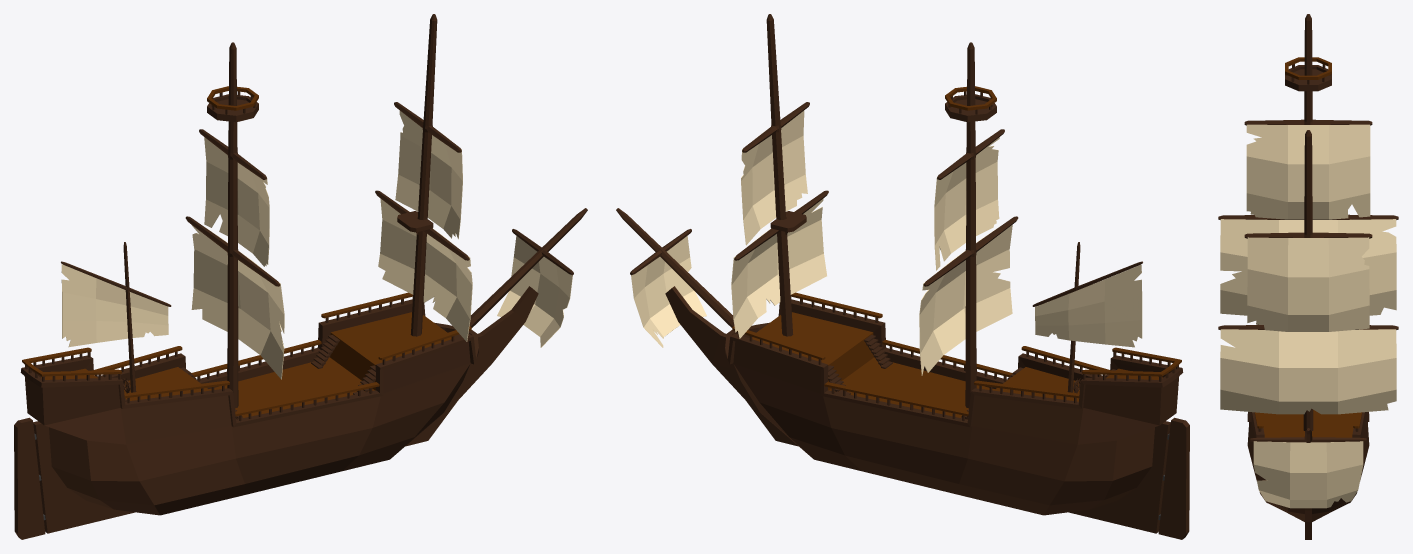
The model's file is ship_smaller_cabin.fbx.
3 renders of one model, left to right at view 1: azimuth 30°, elevation 25°; view 2: azimuth 150°, elevation 25°; view 3: azimuth 270°, elevation 25°, orthographic. The views are drawn at different scales.
Parts seen in each view (by area): view 1: Cube.006, Cube.004; view 2: Cube.006, Cube.004; view 3: Cube.006, Cube.004, Cube.001.
Part boxes in pixels (box(x1,y1,x2,y2)): Cube.006: box(14, 14, 587, 539); Cube.004: box(207, 91, 258, 122); Cube.006: box(616, 14, 1189, 539); Cube.004: box(945, 91, 996, 122); Cube.006: box(1218, 14, 1398, 539); Cube.004: box(1285, 64, 1331, 91); Cube.001: box(1285, 57, 1331, 79).
Bounding box in the file's own units: 2581 × 6842 × 9222.
